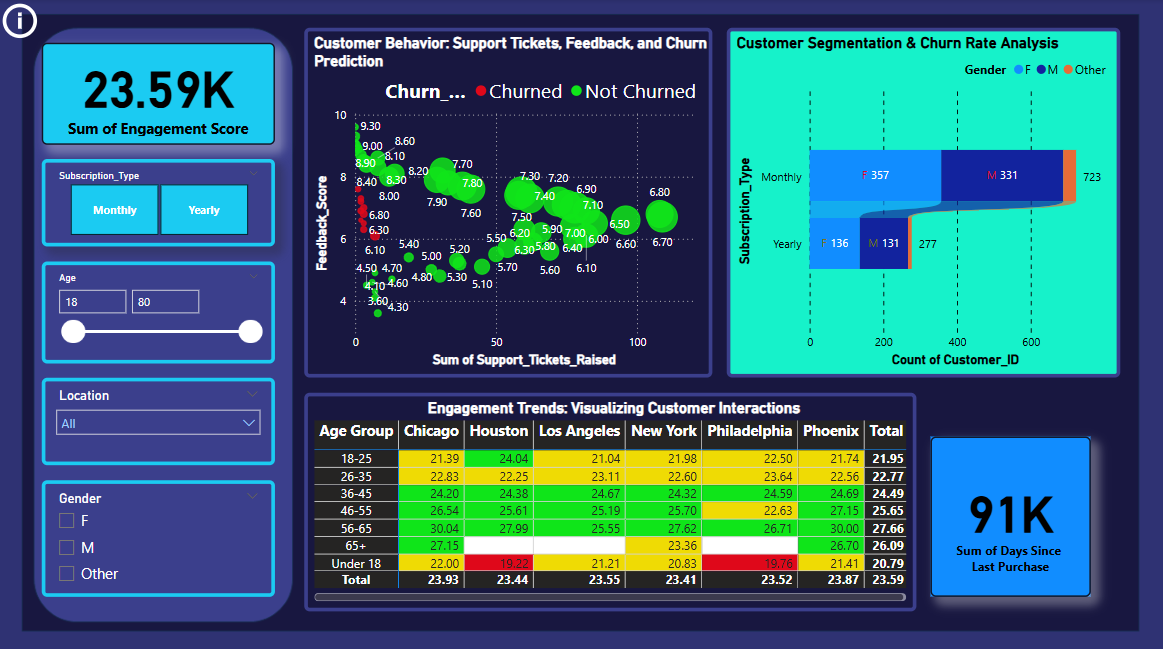

The page's visual inventory and layout, read from the dashboard file:
{"tool":"powerbi","page":{"name":"Customer Behaviour Analysis","canvas":[1280,720],"ordinal":2},"visuals":[{"type":"pivotTable","title":"Engagement Trends: Visualizing Customer Interactions","fields":{"Rows":["churn_dataset.Age Group"],"Columns":["churn_dataset.Location"],"Values":["Avg(churn_dataset.Engagement Score)"]},"box":[336,432,672,240],"z":0},{"type":"scatterChart","title":"Customer Behavior: Support Tickets, Feedback, and Churn Prediction","fields":{"X":["Sum(churn_dataset.Support_Tickets_Raised)"],"Y":["churn_dataset.Feedback_Score"],"Size":["Sum(churn_dataset.Total_Spend)"],"Series":["churn_dataset.Churn_Status"]},"box":[336,32,448,384],"z":1000},{"type":"barChart","title":"Customer Segmentation & Churn Rate Analysis","fields":{"Series":["churn_dataset.Gender"],"Category":["churn_dataset.Subscription_Type"],"Y":["CountNonNull(churn_dataset.Customer_ID)"]},"box":[800,32,432,384],"z":2000},{"type":"slicer","fields":{"Values":["churn_dataset.Location"]},"box":[48,416,256,96],"z":3000},{"type":"slicer","fields":{"Values":["churn_dataset.Subscription_Type"]},"box":[48,176,256,96],"z":4000},{"type":"slicer","fields":{"Values":["churn_dataset.Gender"]},"box":[48,528,256,128],"z":5000},{"type":"card","fields":{"Values":["Sum(churn_dataset.Engagement Score)"]},"box":[48,48,256,112],"z":6000},{"type":"card","fields":{"Values":["Sum(churn_dataset.Days Since Last Purchase)"]},"box":[1024,480,176,176],"z":7000,"group":"g1"},{"type":"slicer","fields":{"Values":["churn_dataset.Age"]},"box":[48,288,256,112],"z":7000},{"type":"group","id":"g1","title":"Group 1","box":[1024,480,176,176],"z":8000},{"type":"actionButton","box":[0,0,48,48],"z":9000}]}

Visuals, with their boxes in screenshot pixels (x1, y1, x2, y2), scaled from the page's 1280x720 canvas onto the 1163x649 screenshot:
"Engagement Trends: Visualizing Customer Interactions" pivotTable: region(305, 389, 916, 606)
"Customer Behavior: Support Tickets, Feedback, and Churn Prediction" scatterChart: region(305, 29, 712, 375)
"Customer Segmentation & Churn Rate Analysis" barChart: region(727, 29, 1119, 375)
slicer - churn_dataset.Location: region(44, 375, 276, 462)
slicer - churn_dataset.Subscription_Type: region(44, 159, 276, 245)
slicer - churn_dataset.Gender: region(44, 476, 276, 591)
card - Sum(churn_dataset.Engagement Score): region(44, 43, 276, 144)
card - Sum(churn_dataset.Days Since Last Purchase): region(930, 433, 1090, 591)
slicer - churn_dataset.Age: region(44, 260, 276, 361)
"Group 1" group: region(930, 433, 1090, 591)
actionButton: region(0, 0, 44, 43)
